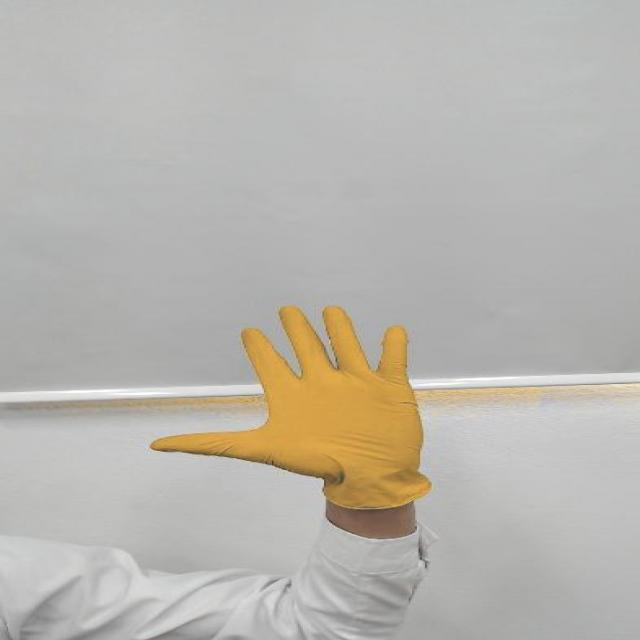Glove: (139, 299, 447, 492)
